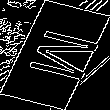M_E: (11, 25, 99, 85)
